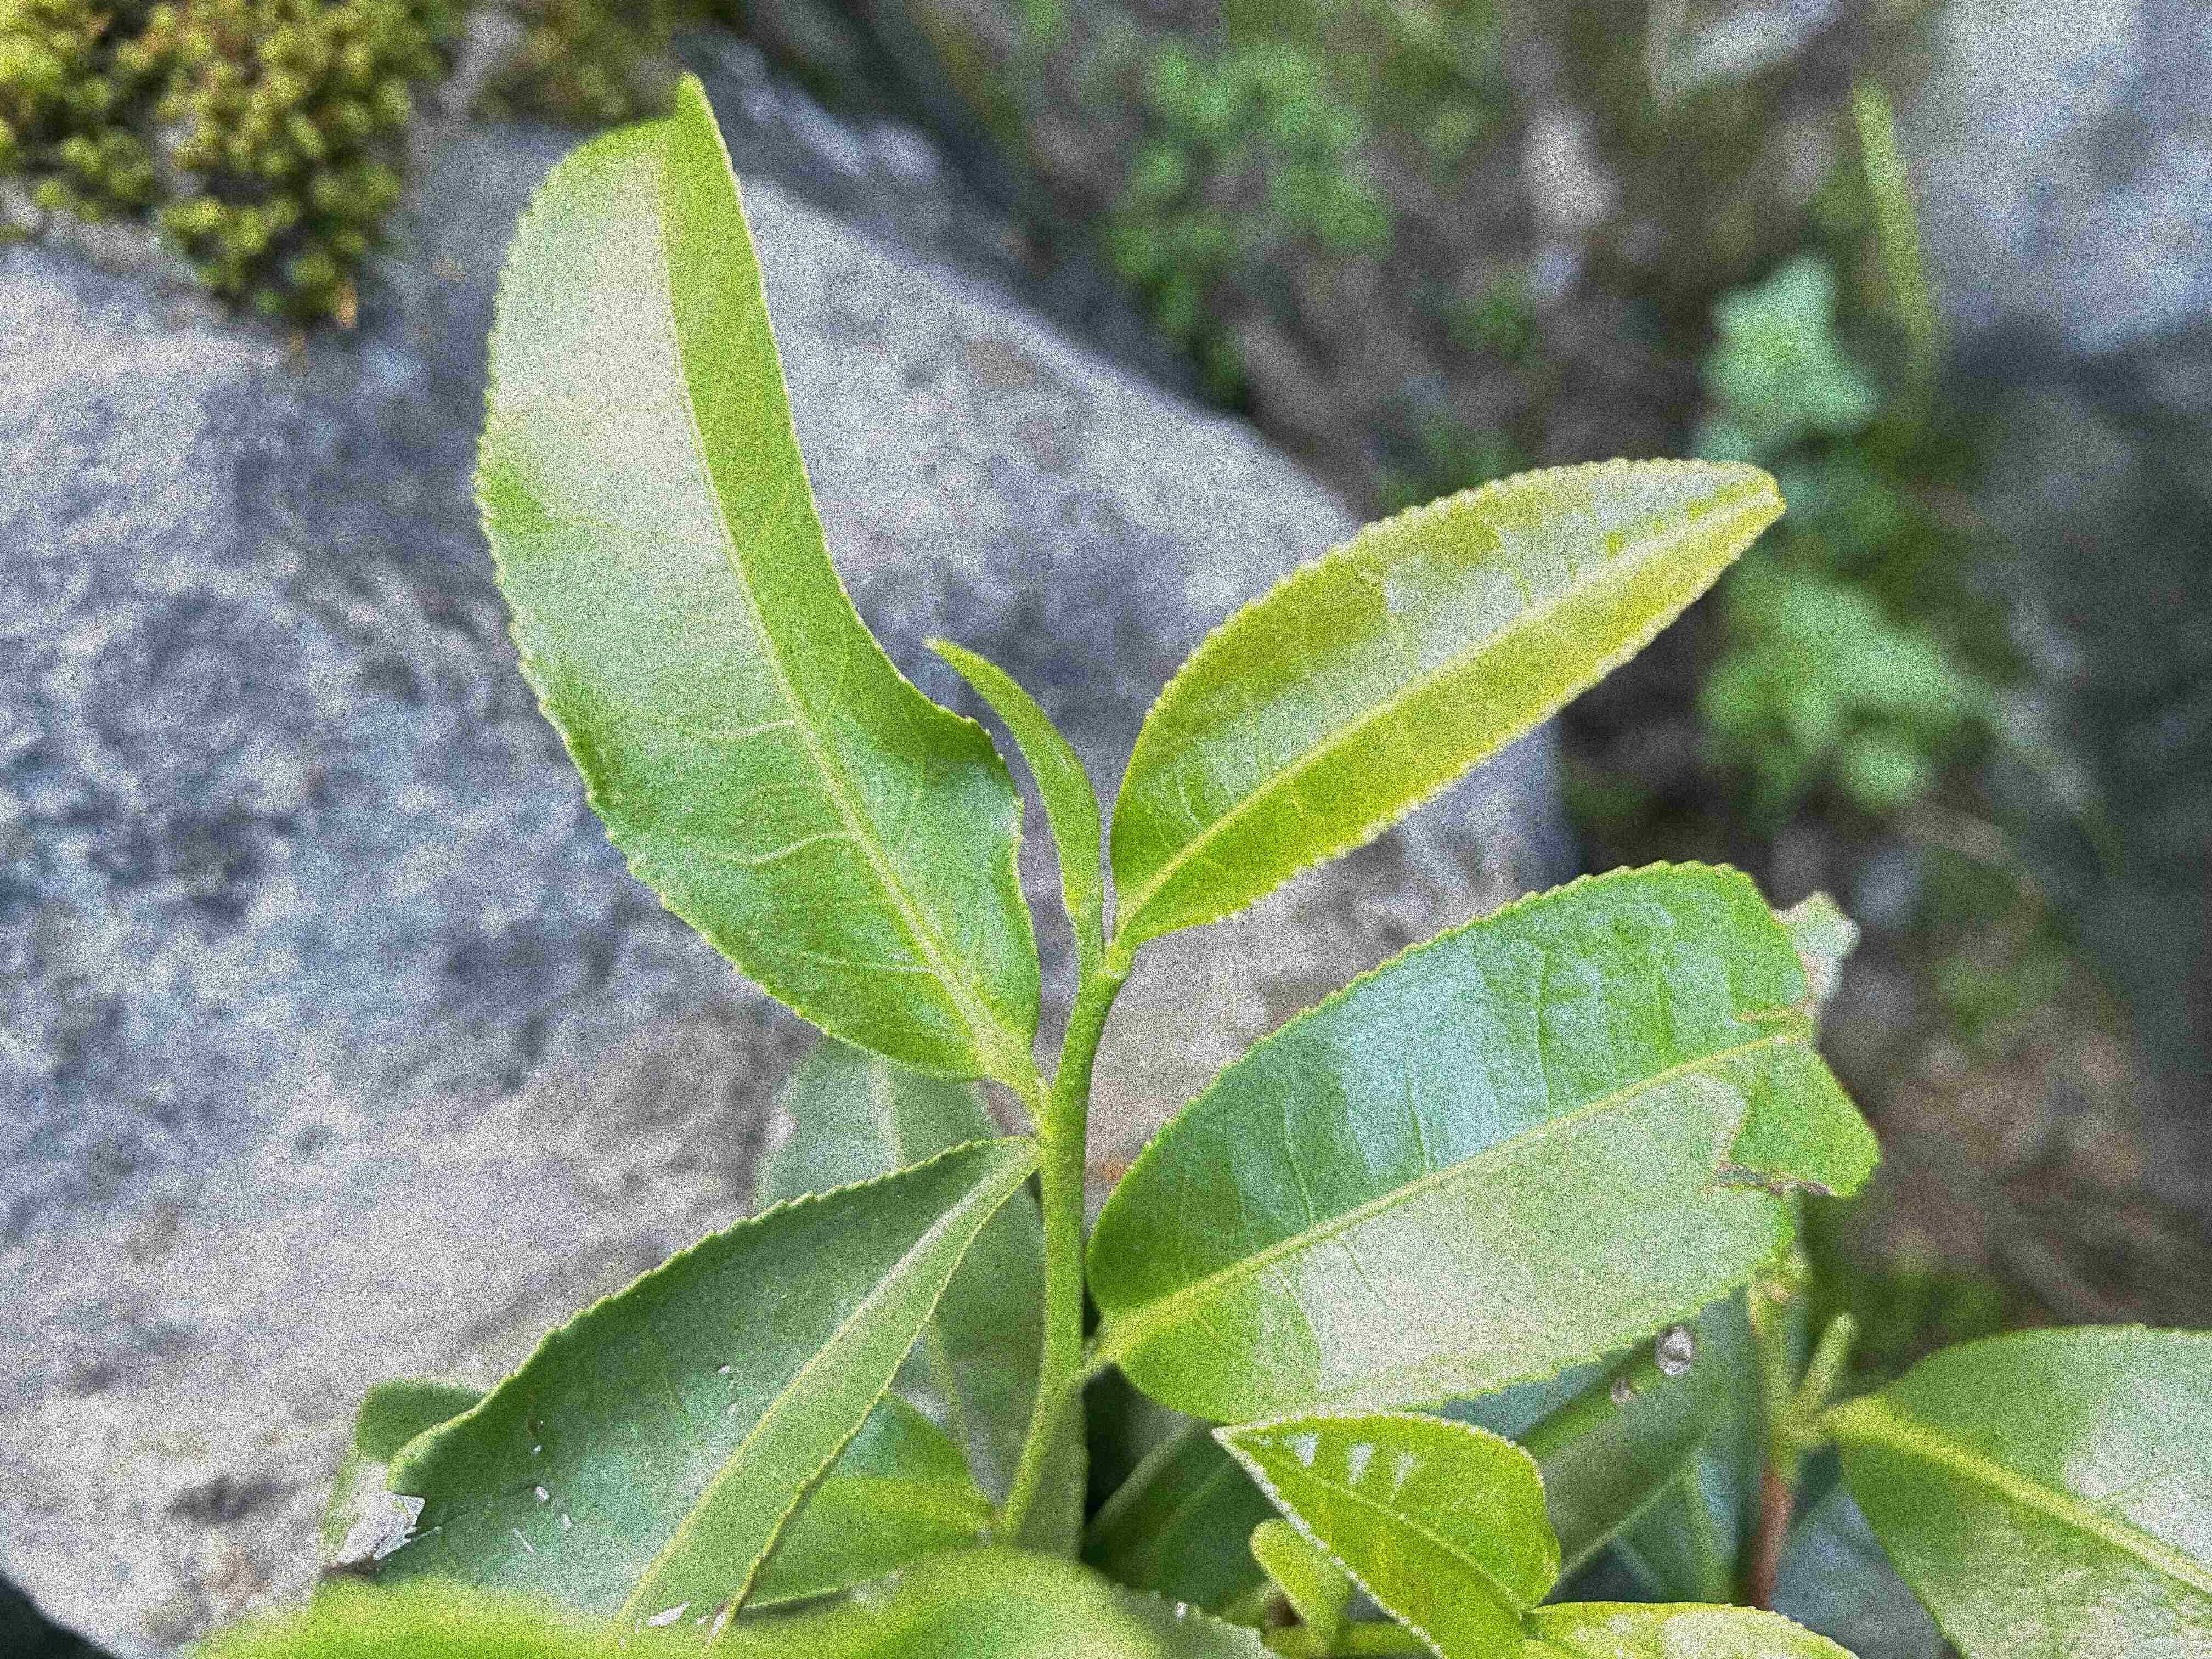chihuo_low: (1085, 856, 1879, 1420)
healthy: (475, 59, 1045, 1089), (1108, 458, 1785, 934), (1212, 1415, 1561, 1654)
